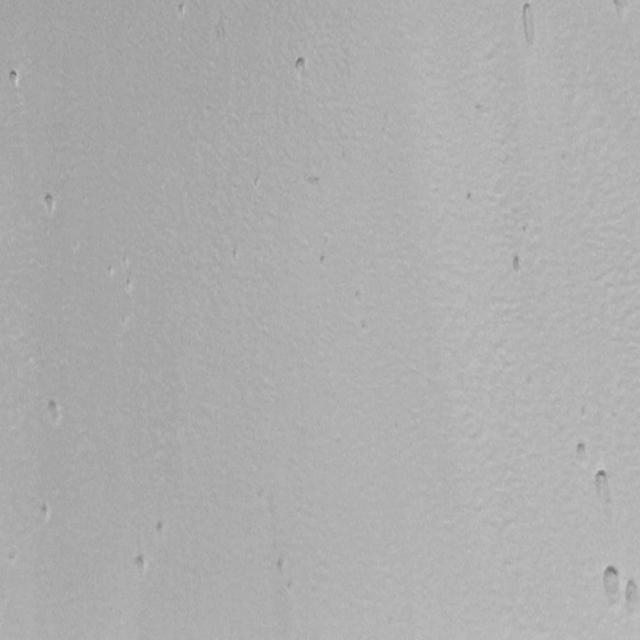pin holes: (598, 564, 627, 616), (594, 466, 615, 498), (520, 3, 539, 38), (42, 396, 64, 426), (607, 0, 634, 24), (38, 189, 60, 217), (289, 54, 311, 80), (622, 575, 639, 605), (508, 252, 528, 277), (571, 439, 590, 464), (5, 66, 25, 89), (36, 502, 56, 524), (272, 555, 292, 576), (132, 552, 150, 575), (304, 171, 326, 189), (154, 518, 170, 537), (7, 548, 22, 566), (176, 2, 191, 19), (103, 262, 116, 280), (464, 189, 478, 204), (123, 276, 135, 292), (285, 580, 298, 594), (318, 251, 328, 267)
